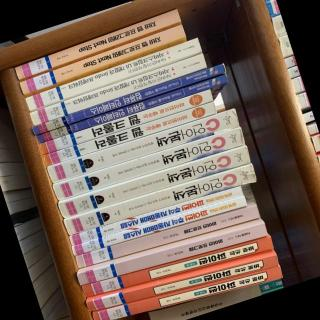book-spine: (46, 109, 239, 184), (52, 127, 245, 201), (31, 63, 226, 135), (57, 147, 251, 219), (62, 165, 257, 236), (36, 74, 228, 143), (24, 38, 202, 111), (29, 54, 207, 126), (76, 223, 267, 286), (74, 205, 260, 269), (14, 9, 181, 80), (19, 24, 186, 95), (81, 237, 273, 298), (39, 89, 213, 155), (43, 102, 217, 166), (85, 255, 279, 312), (69, 186, 243, 246), (71, 197, 247, 256), (92, 267, 282, 320)
